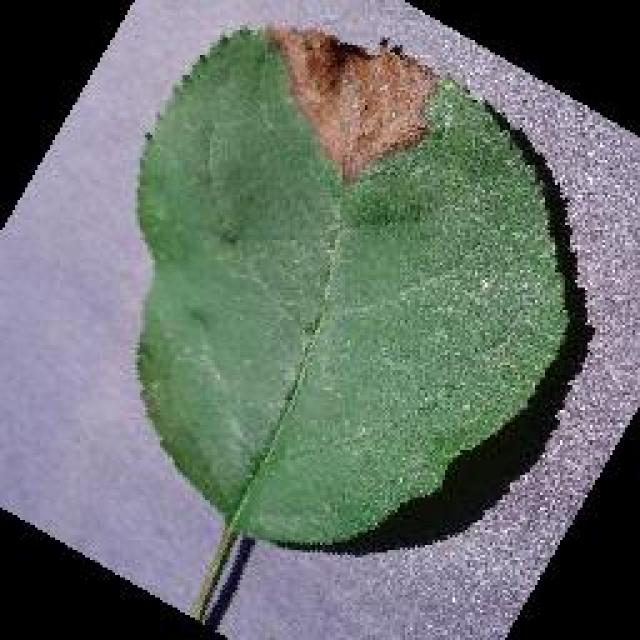Black_rot: (133, 20, 575, 550)
